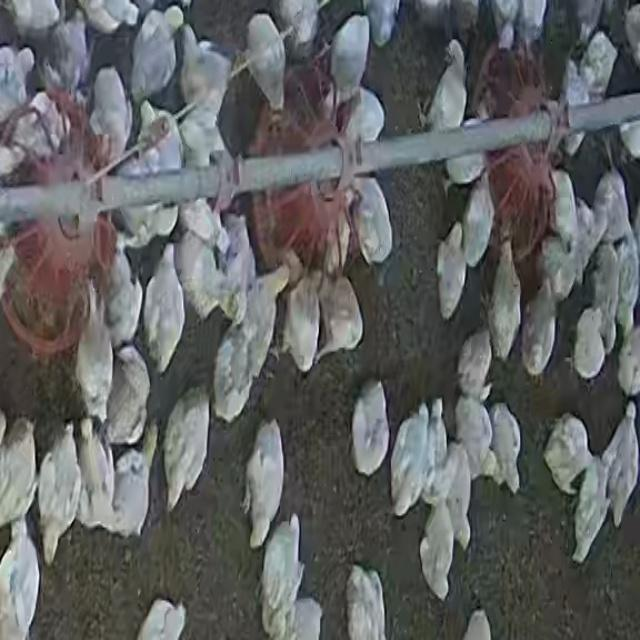chicken: (175, 28, 234, 144), (237, 260, 284, 390), (162, 391, 211, 514), (40, 422, 84, 558), (1, 86, 62, 180), (244, 420, 287, 548), (388, 400, 436, 514), (73, 287, 113, 423), (258, 517, 304, 634), (114, 421, 159, 539), (142, 246, 184, 372), (129, 10, 179, 109), (211, 319, 258, 423), (601, 407, 639, 530), (77, 432, 120, 540), (0, 414, 39, 532), (243, 12, 289, 112), (315, 272, 363, 367), (218, 210, 258, 324), (104, 344, 149, 445), (1, 522, 42, 632), (88, 66, 133, 166), (102, 241, 142, 351), (543, 412, 593, 500), (281, 270, 322, 376), (486, 240, 522, 360), (582, 167, 626, 265), (426, 37, 470, 133), (327, 12, 371, 107), (588, 242, 624, 352), (354, 175, 395, 270), (419, 501, 457, 600), (452, 395, 492, 488), (571, 461, 608, 561), (521, 280, 558, 378), (353, 374, 387, 475), (486, 404, 524, 494), (558, 59, 592, 158), (539, 221, 579, 305), (442, 445, 474, 549), (441, 115, 486, 187), (344, 566, 387, 639), (612, 231, 640, 343), (434, 224, 468, 316), (549, 166, 588, 244), (178, 234, 213, 320), (463, 173, 496, 262), (0, 43, 38, 120), (577, 30, 618, 100), (341, 87, 385, 152), (272, 1, 323, 57), (571, 306, 607, 385), (455, 325, 494, 397), (179, 200, 232, 251), (49, 13, 83, 87), (134, 598, 187, 640), (78, 0, 139, 33), (614, 323, 640, 400), (364, 0, 401, 48), (489, 0, 517, 49), (519, 0, 548, 46)
